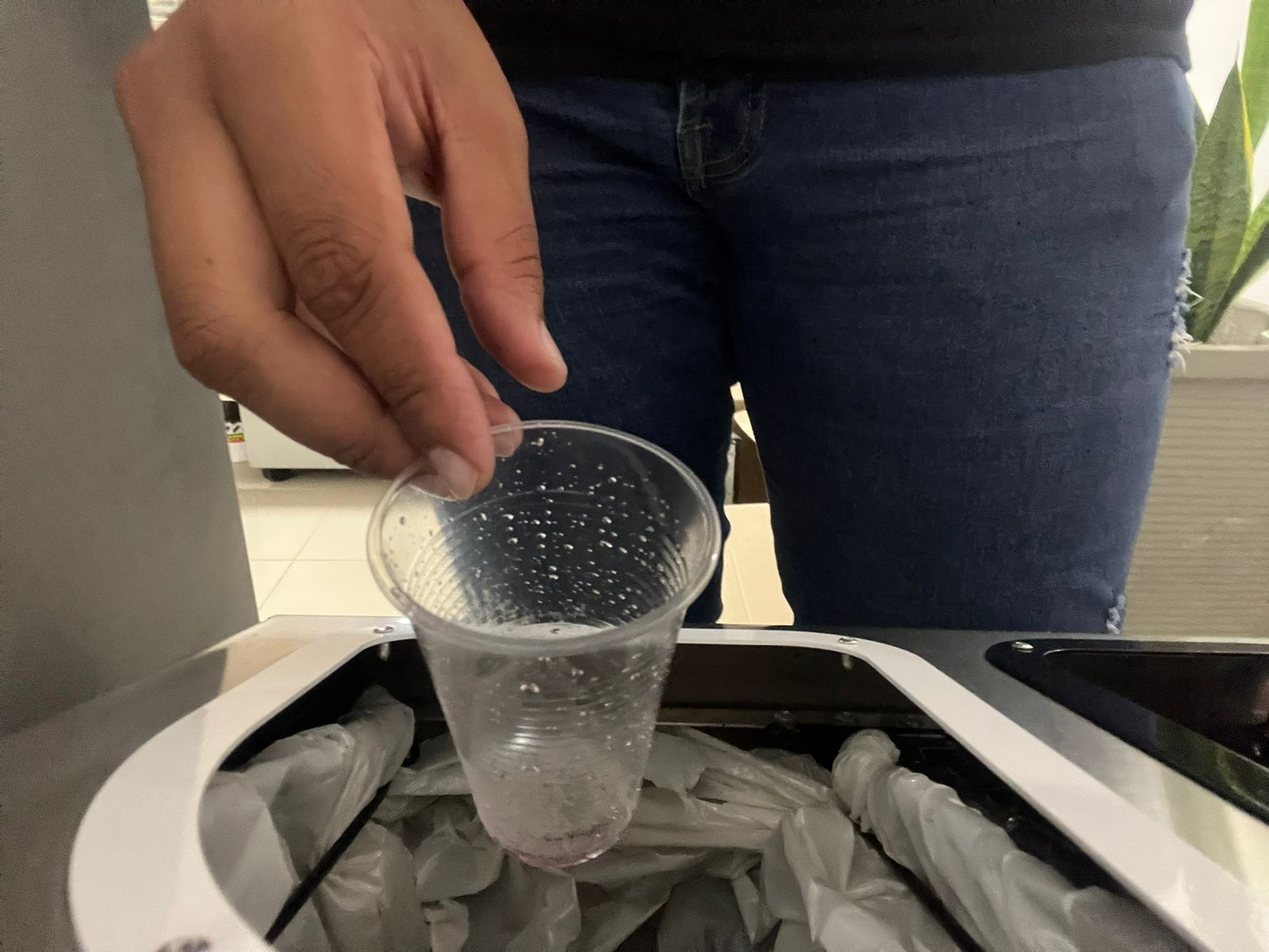Plastico: (364, 420, 721, 868)
